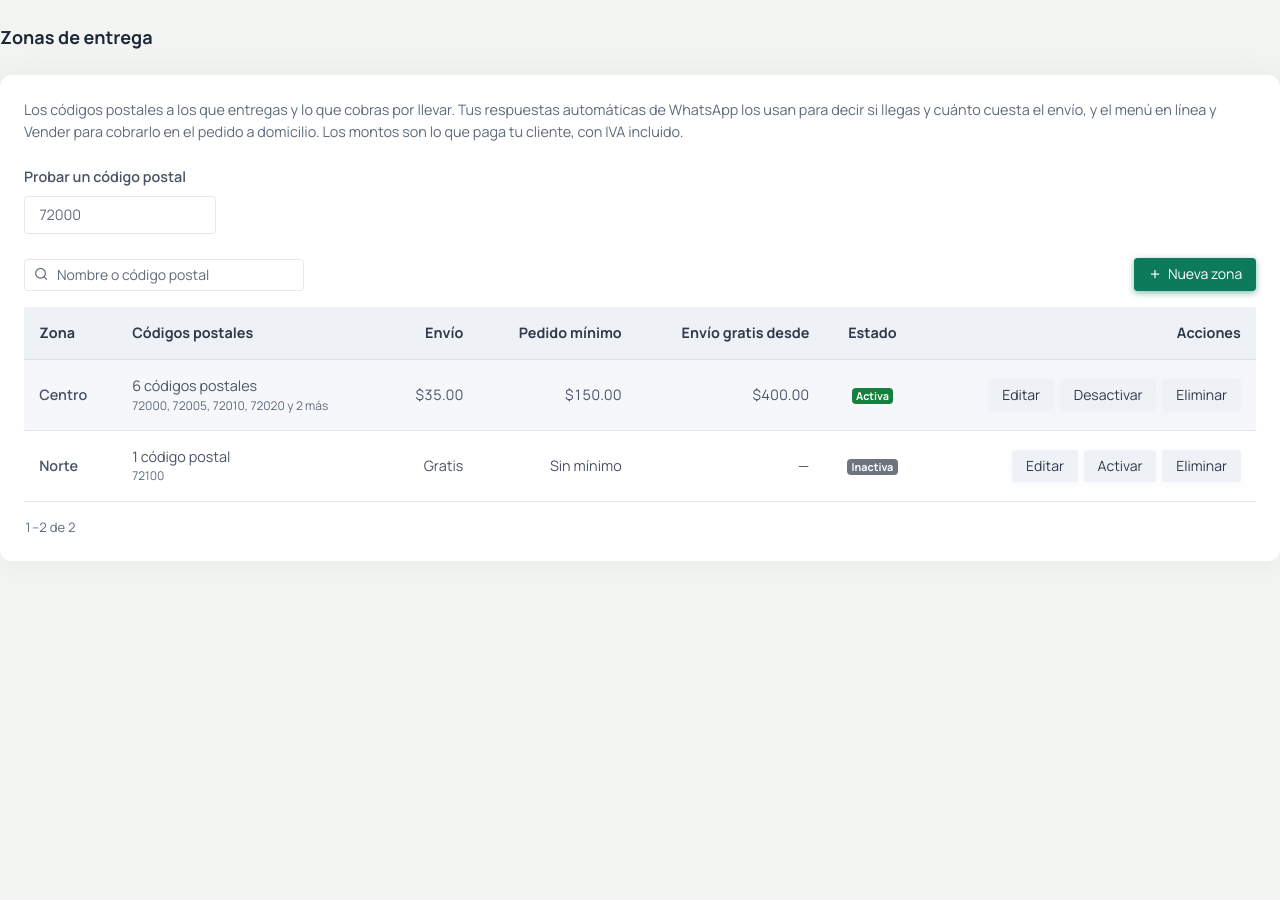
Test: DeliveryZones › refuses the name of another zone before saving, without telling capitals apart
Click the button with aria-label "Editar Norte".
click(1045, 466)  # box left=1012, top=450, right=1078, bottom=482
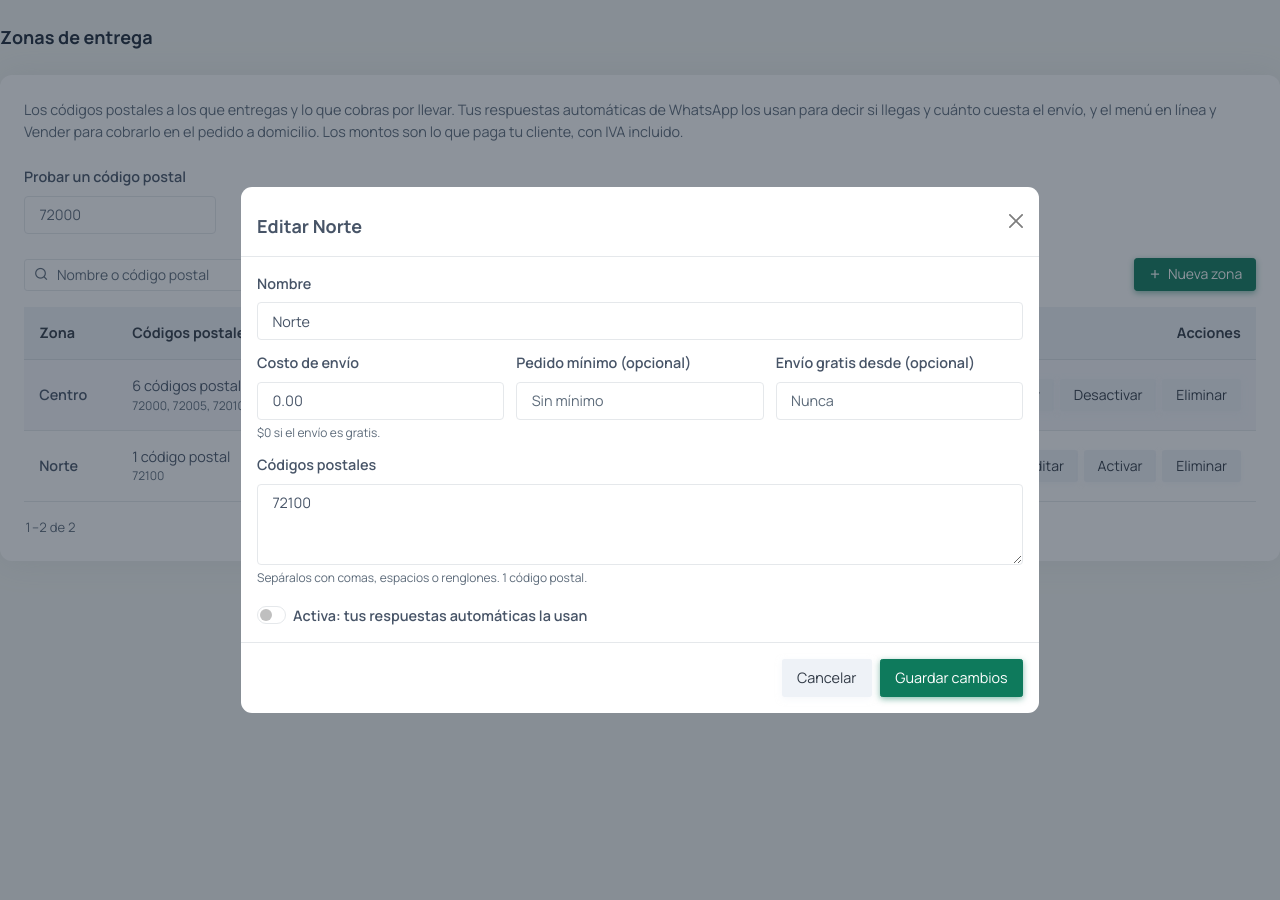
Replace the text in the field labelled "Nombre" with "centro " at (640, 321), box left=257, top=302, right=1023, bottom=340
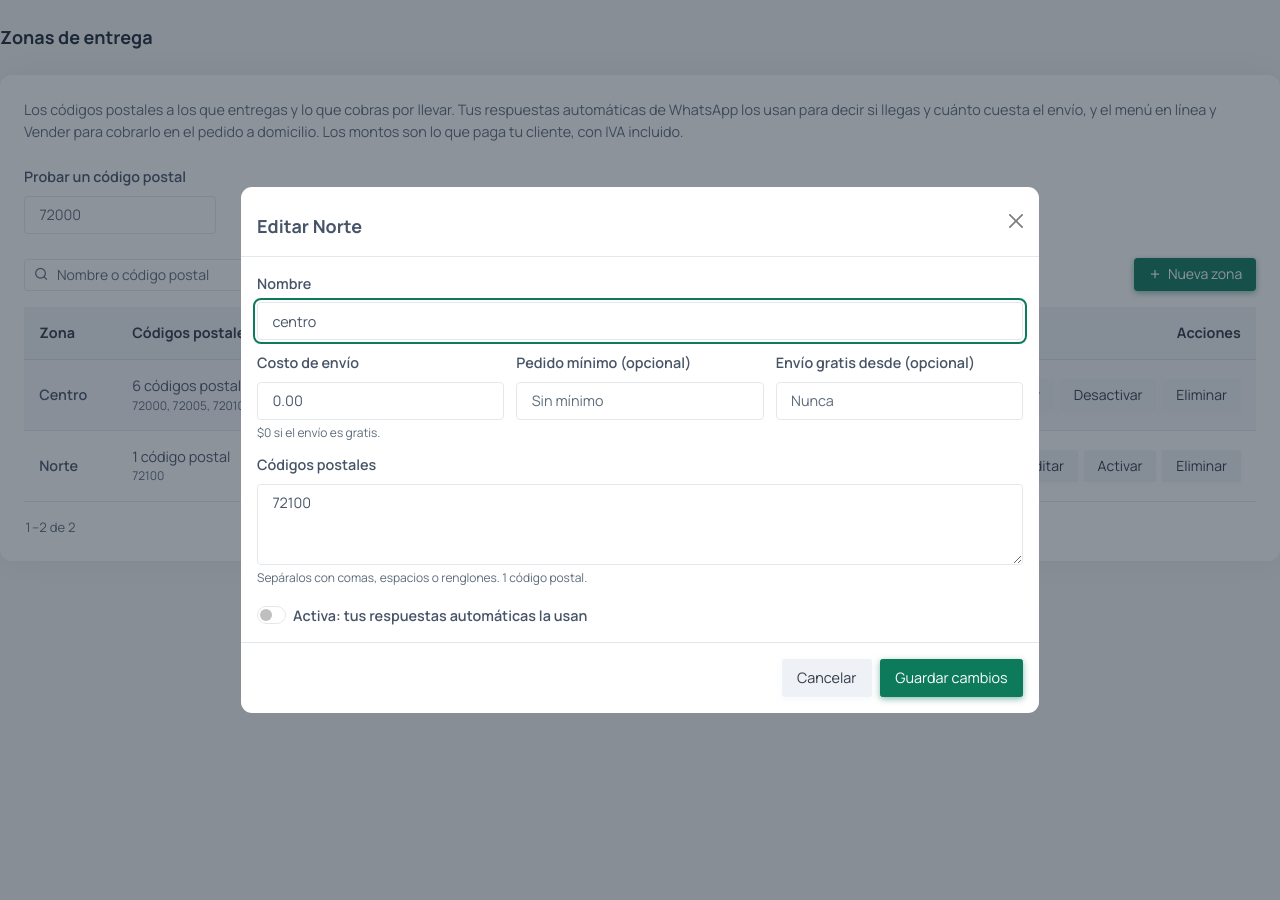
Click the button "Guardar cambios".
click(951, 678)  # box left=880, top=659, right=1023, bottom=697
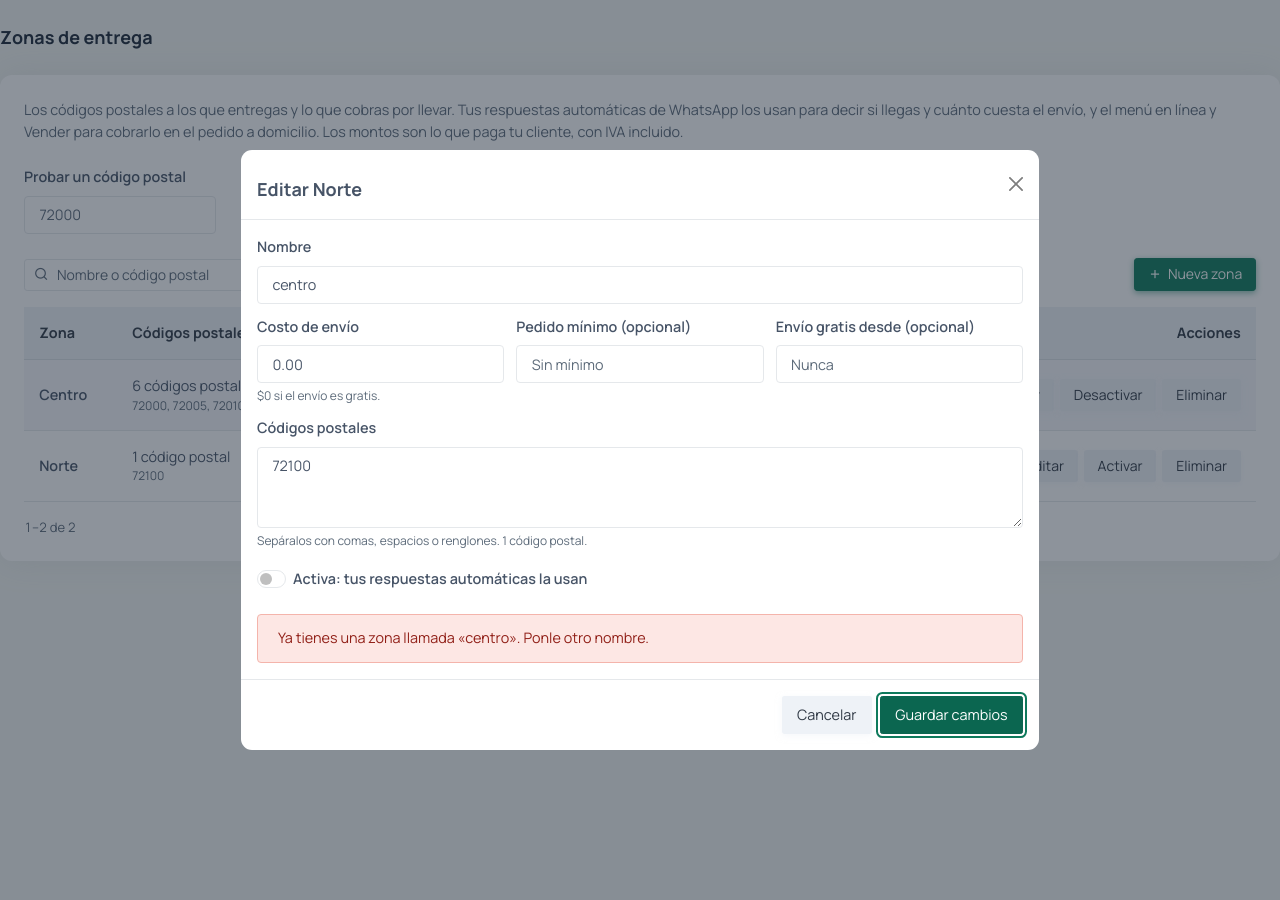
Expected: the text "Ya tienes una zona llamada «centro». Ponle otro nombre." is shown, left=257, top=614, right=1023, bottom=663
